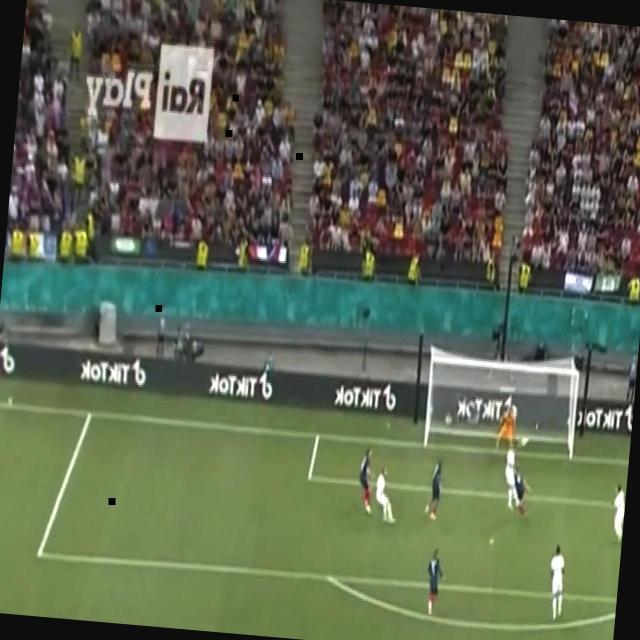ball: (520, 434, 530, 448)
player-white: (500, 438, 526, 514), (545, 543, 569, 623), (372, 464, 402, 526), (506, 462, 536, 521), (423, 547, 447, 619), (424, 454, 448, 524), (356, 445, 378, 517), (494, 404, 519, 454), (610, 482, 627, 541)
